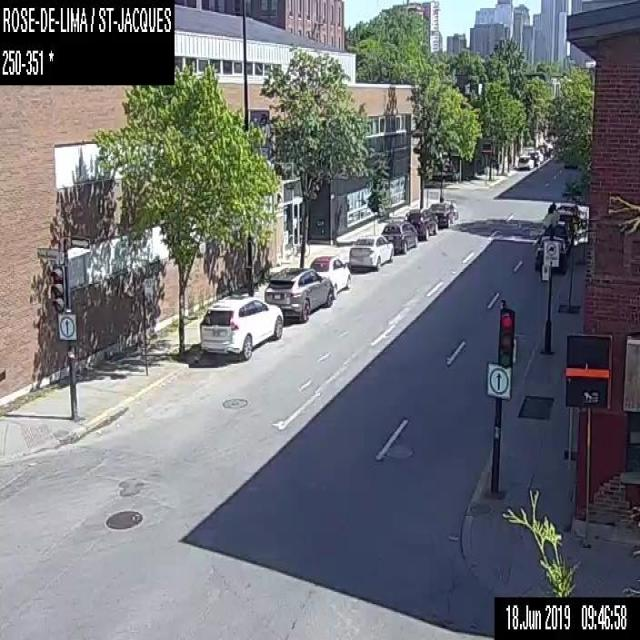vehicle: (198, 293, 282, 361), (265, 267, 333, 319), (532, 231, 570, 273), (347, 234, 391, 270), (309, 258, 352, 292), (380, 220, 417, 250), (404, 209, 439, 238), (548, 217, 569, 251), (426, 203, 456, 223), (558, 202, 580, 229), (556, 209, 574, 237), (517, 155, 533, 168), (527, 150, 540, 166), (538, 142, 548, 158), (533, 150, 543, 162)
